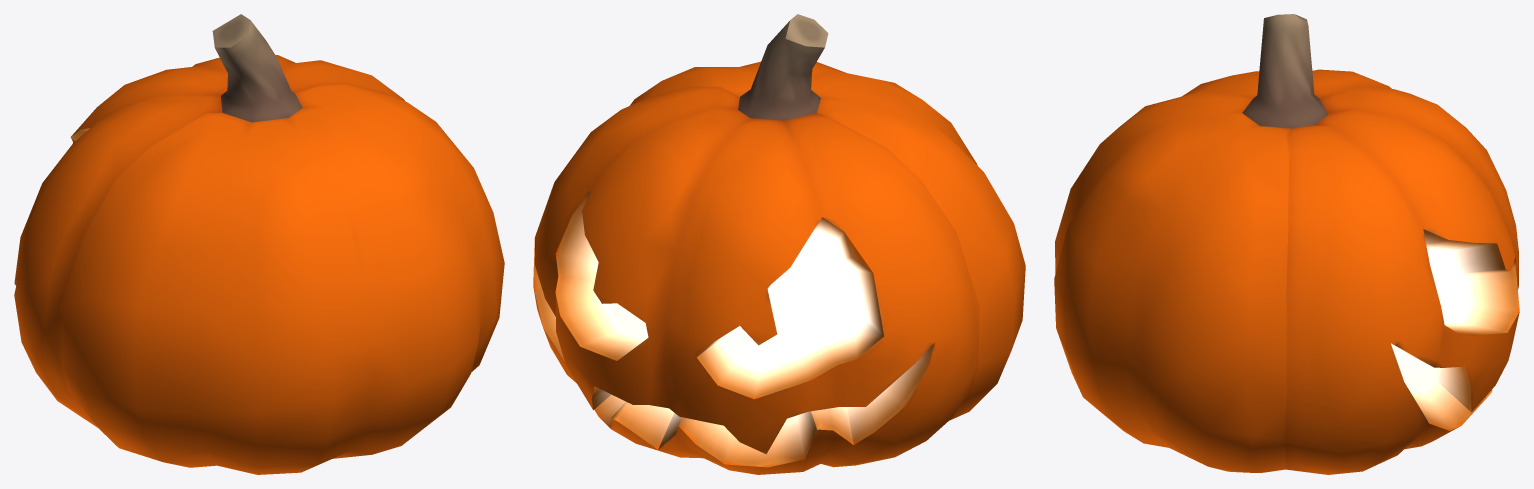
Rendered from IG_Helmat_PumpkinLight.fbx.
The picture shows the model from 3 angles, left to right: view 1: azimuth 30°, elevation 25°; view 2: azimuth 150°, elevation 25°; view 3: azimuth 270°, elevation 25°; orthographic projection.
Parts seen in each view (by area): view 1: Pfb_Head_Pumpkin_1; view 2: Pfb_Head_Pumpkin_1; view 3: Pfb_Head_Pumpkin_1.
Part boxes in pixels (bbox=[...]): Pfb_Head_Pumpkin_1: bbox=[14, 14, 504, 474]; Pfb_Head_Pumpkin_1: bbox=[533, 14, 1025, 474]; Pfb_Head_Pumpkin_1: bbox=[1054, 14, 1519, 474].
Bounding box in the file's own units: 0.7812 × 0.7382 × 0.7692.
